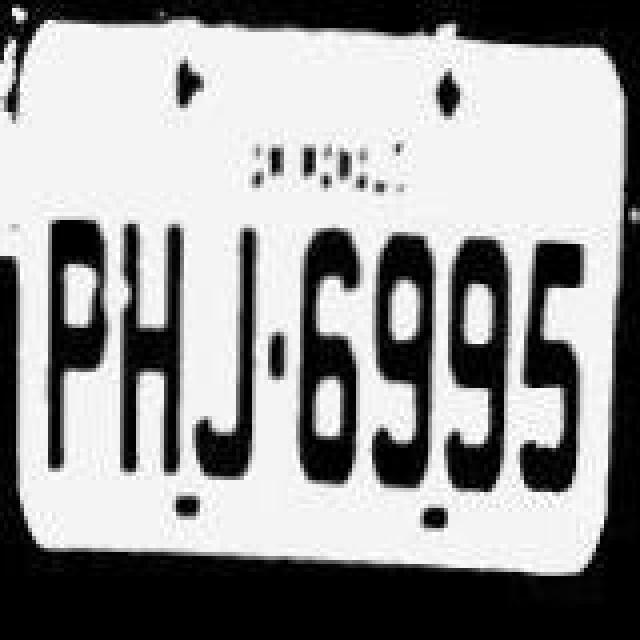5: (522, 236, 594, 500)
6: (298, 226, 370, 490)
9: (370, 230, 442, 494), (446, 232, 518, 492)
H: (110, 222, 190, 482)
J: (194, 226, 274, 482)
P: (46, 212, 118, 476)
